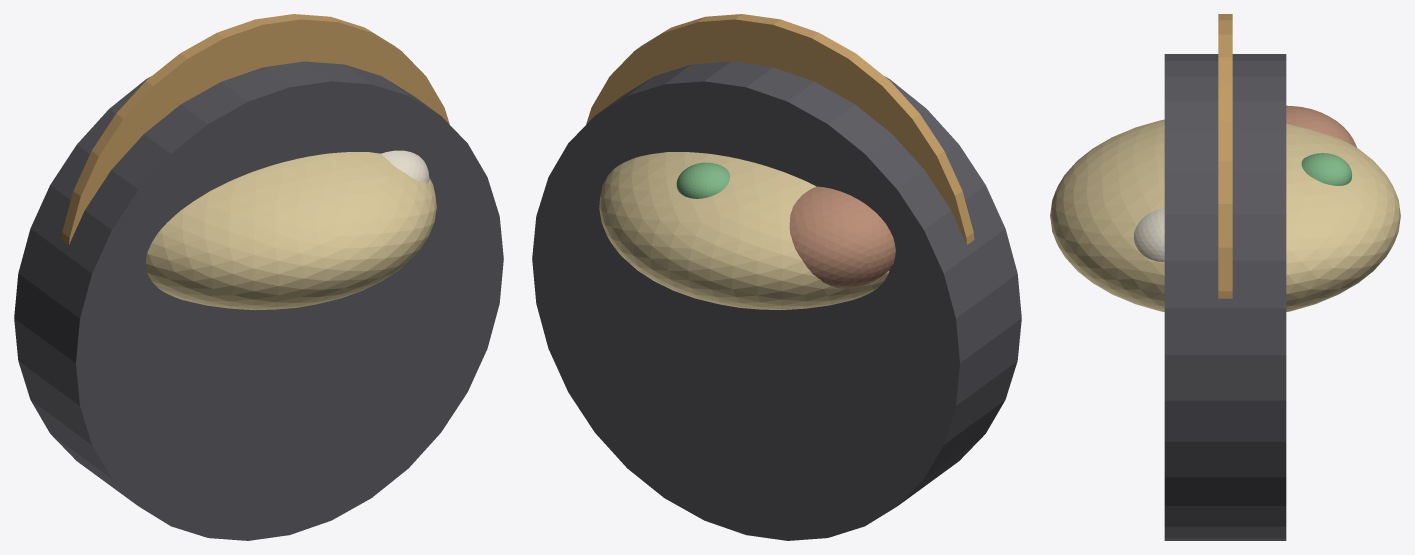
File: ramen.glb
The picture shows the model from 3 angles, left to right: view 1: azimuth 30°, elevation 25°; view 2: azimuth 150°, elevation 25°; view 3: azimuth 270°, elevation 25°; orthographic projection.
Visible parts, largest first — view 1: geometry_0, geometry_2, geometry_1, geometry_3; view 2: geometry_0, geometry_2, geometry_1, geometry_5, geometry_6; view 3: geometry_0, geometry_2, geometry_1, geometry_3, geometry_5, geometry_6.
Part boxes in pixels (x1,y1,x2,y2): geometry_0: [14, 61, 503, 540]; geometry_2: [146, 152, 436, 310]; geometry_1: [61, 14, 449, 244]; geometry_3: [381, 150, 429, 183]; geometry_0: [532, 61, 1021, 540]; geometry_2: [599, 152, 889, 310]; geometry_1: [586, 14, 974, 244]; geometry_5: [789, 186, 895, 288]; geometry_6: [676, 162, 729, 198]; geometry_0: [1164, 54, 1286, 540]; geometry_2: [1050, 119, 1400, 311]; geometry_1: [1218, 14, 1232, 298]; geometry_3: [1134, 208, 1164, 261]; geometry_5: [1286, 105, 1356, 147]; geometry_6: [1301, 153, 1352, 185].
Size of the model in its own units: 2 by 2.19 by 1.44.
